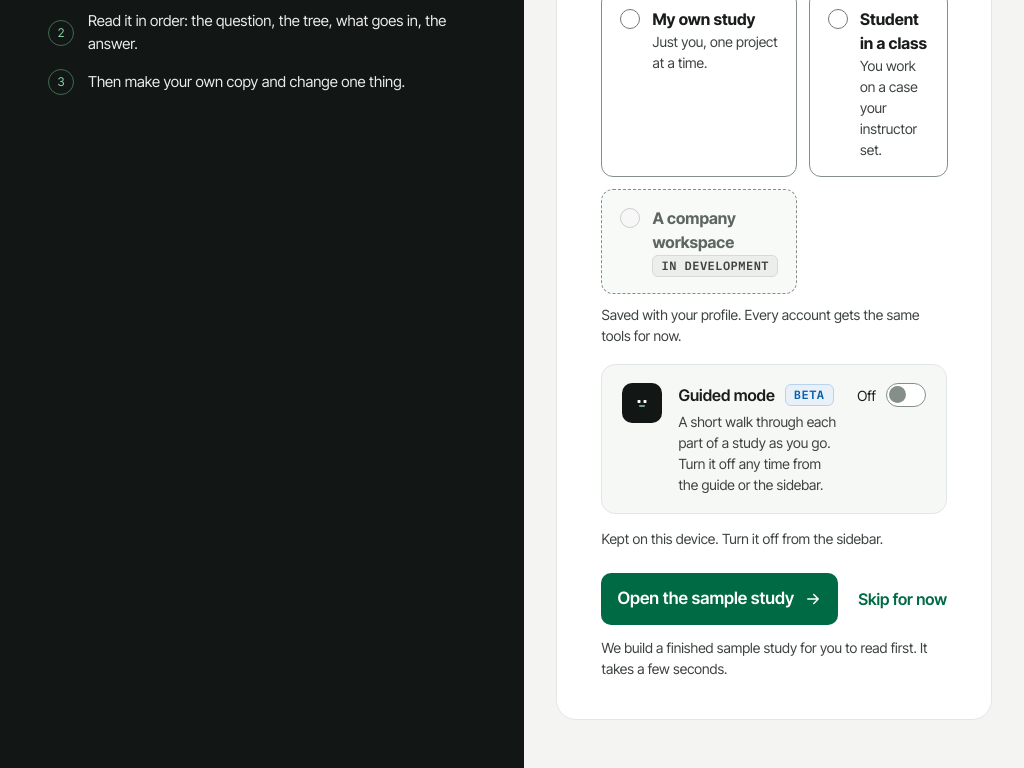
Test: /auth/onboarding › a failed save says so on the form and builds nothing
The image size is (1024, 768).
(page scrolled)
Click the button "Open the sample study" at (720, 599), box top-left (602, 573), bottom-right (838, 625)
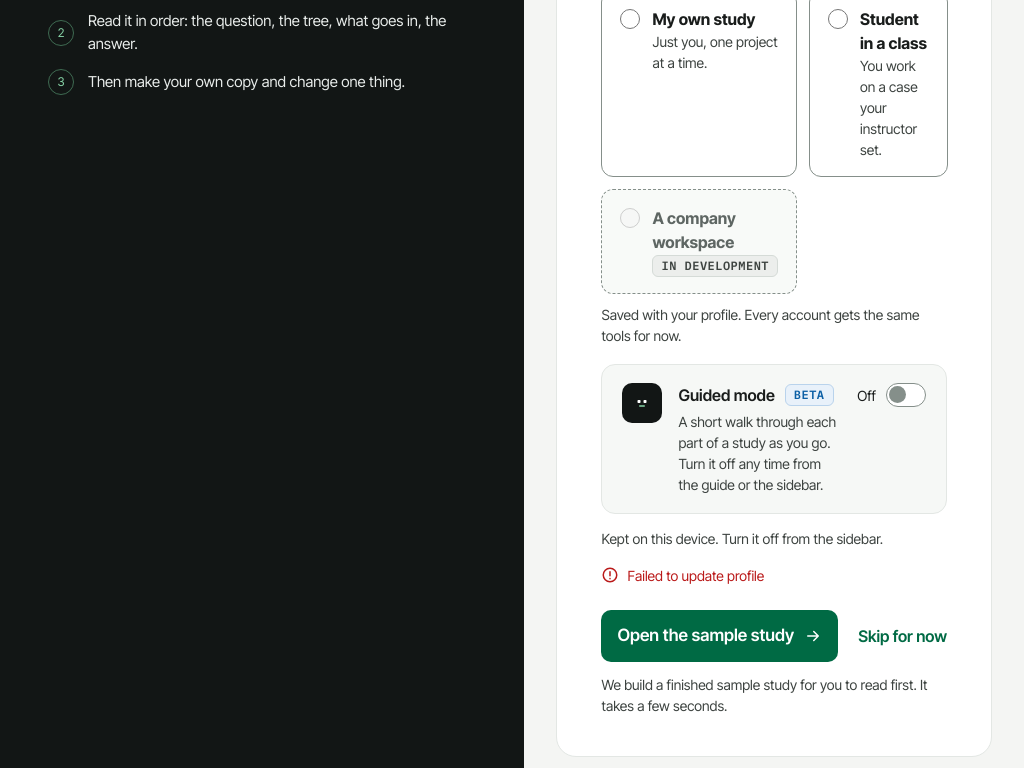
Now the text "Failed to update profile" is shown, box top-left (628, 565), bottom-right (764, 586)
